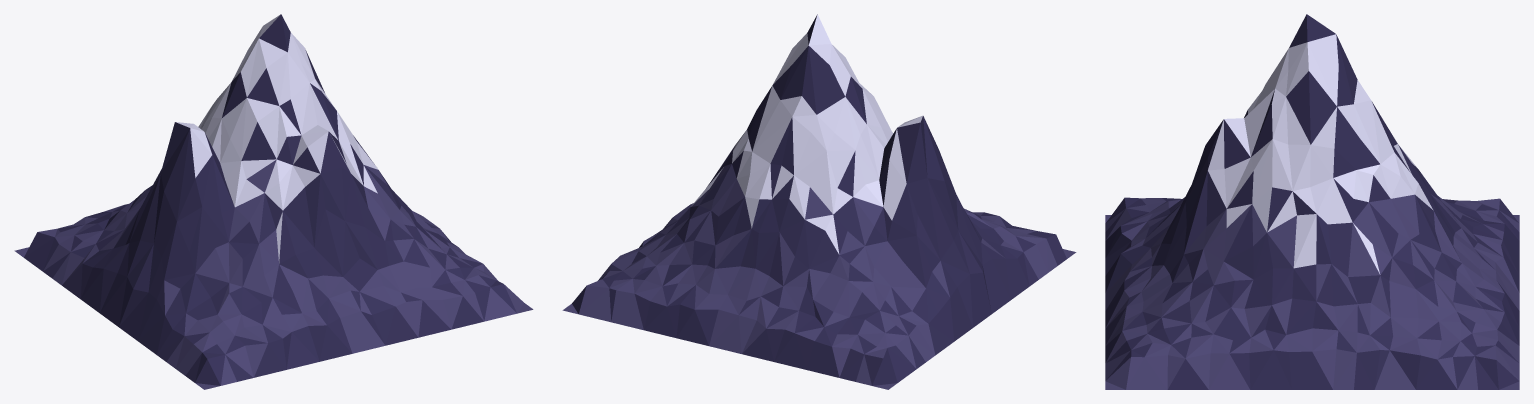
The model's file is frost_peak.glb.
3 views of the same model, side by side, from view 1: azimuth 30°, elevation 25°; view 2: azimuth 150°, elevation 25°; view 3: azimuth 270°, elevation 25° (orthographic). The views are drawn at different scales.
Visible parts, largest first — view 1: Peak; view 2: Peak; view 3: Peak.
Boxes of the visible parts, x1,y1,x2,y2 form: Peak: [14, 14, 533, 389]; Peak: [562, 14, 1076, 389]; Peak: [1105, 14, 1519, 389].
Size of the model in its own units: 110 by 85.23 by 110.
